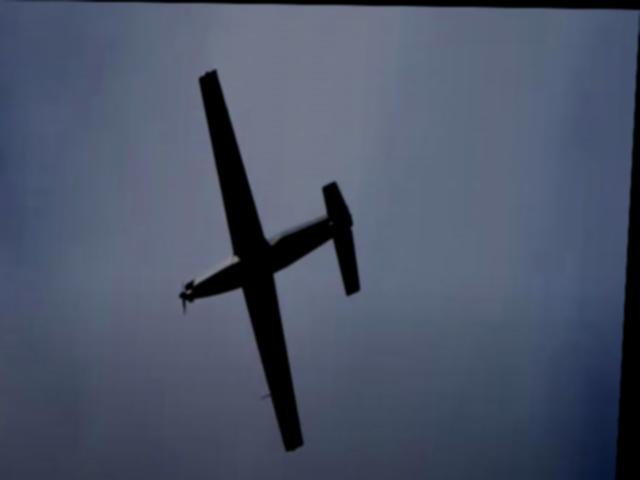iha: (175, 64, 374, 452)
